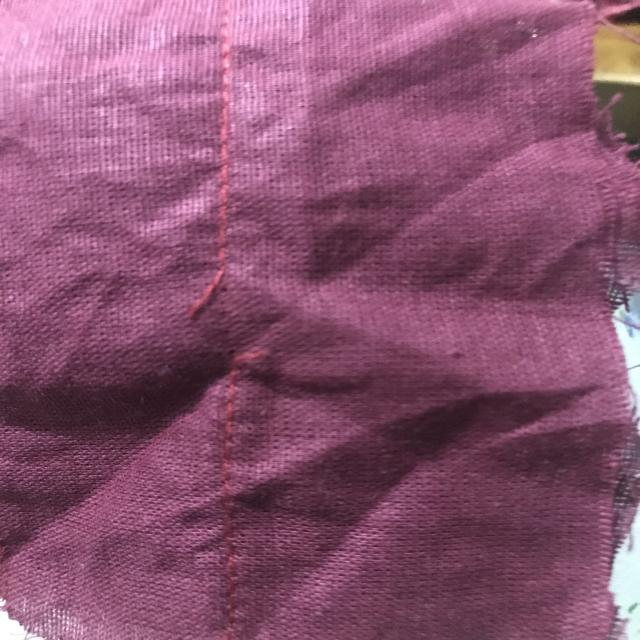broken: (159, 252, 311, 380)
good: (208, 396, 266, 504)
